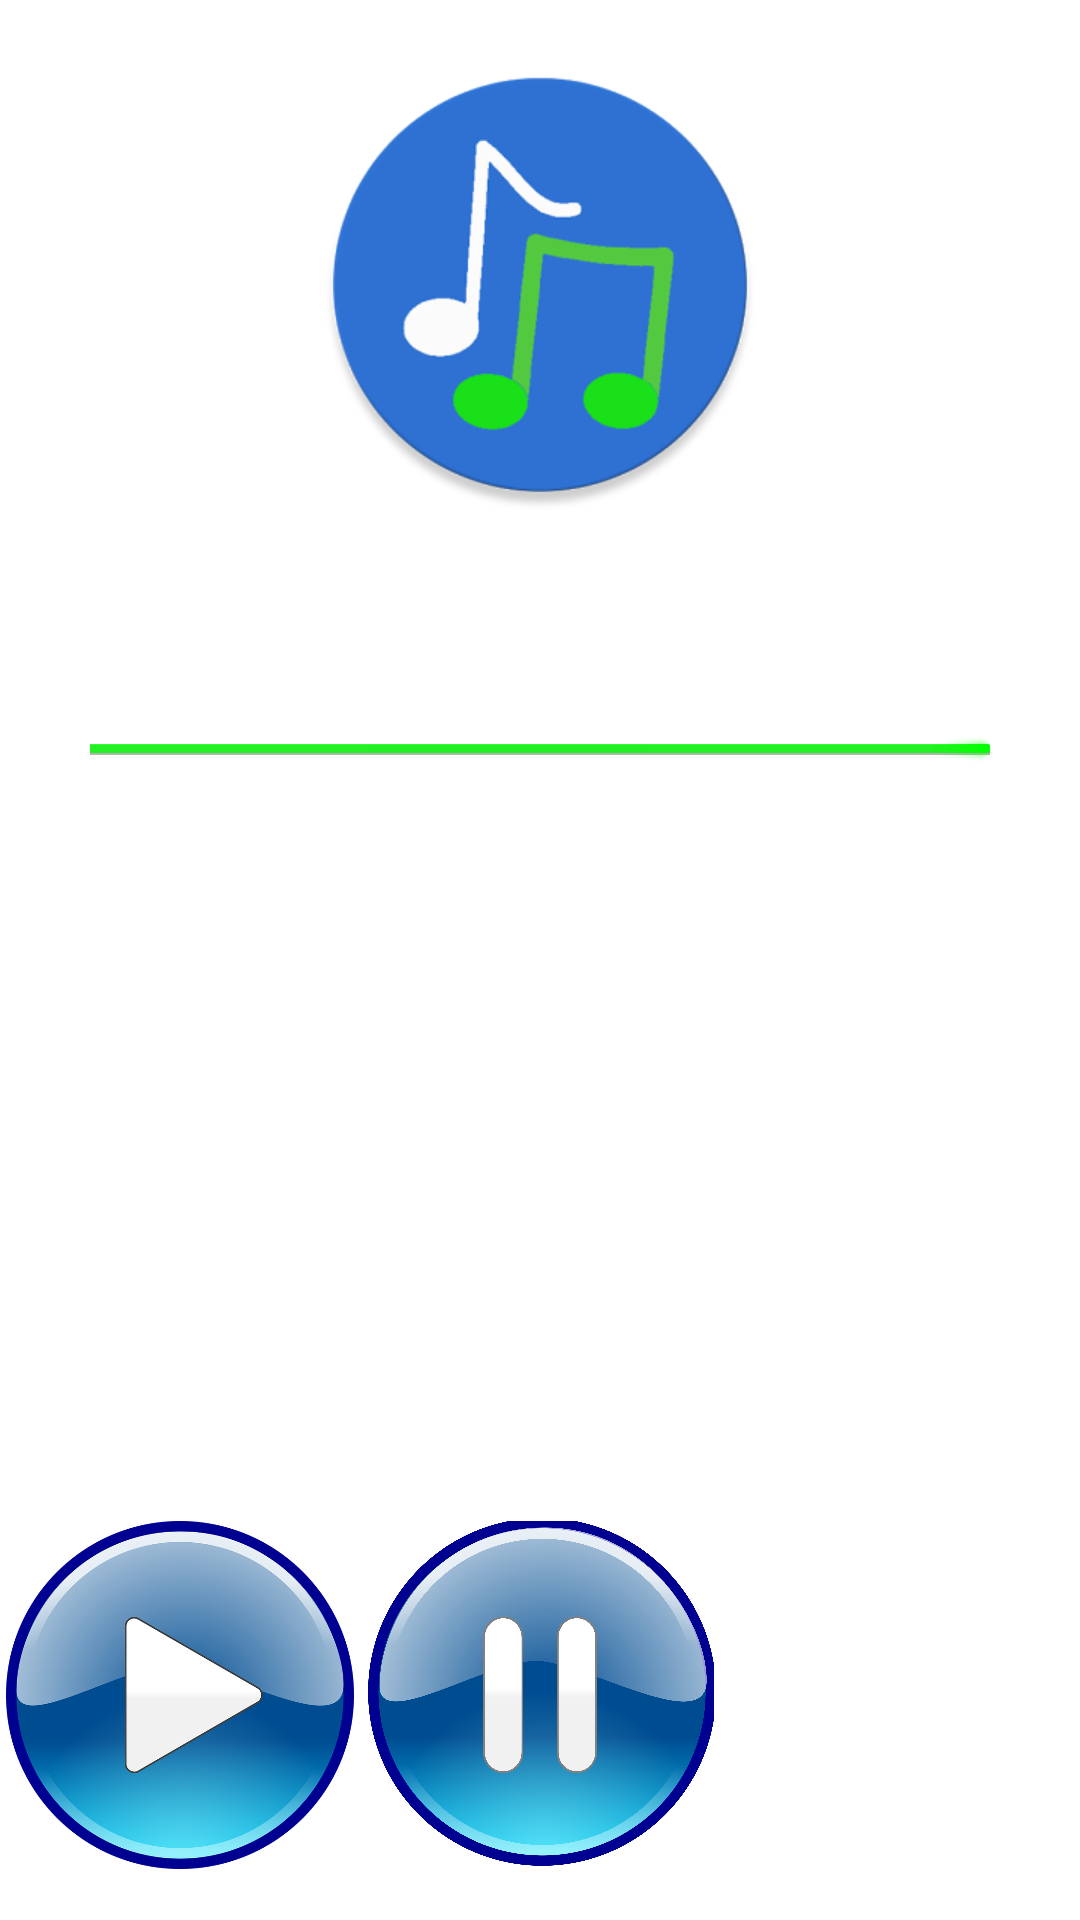

Named icons in this screenshot (1080*1920) and their centers, point (x, y):
pause: point (541, 1693)
play: point (180, 1695)
